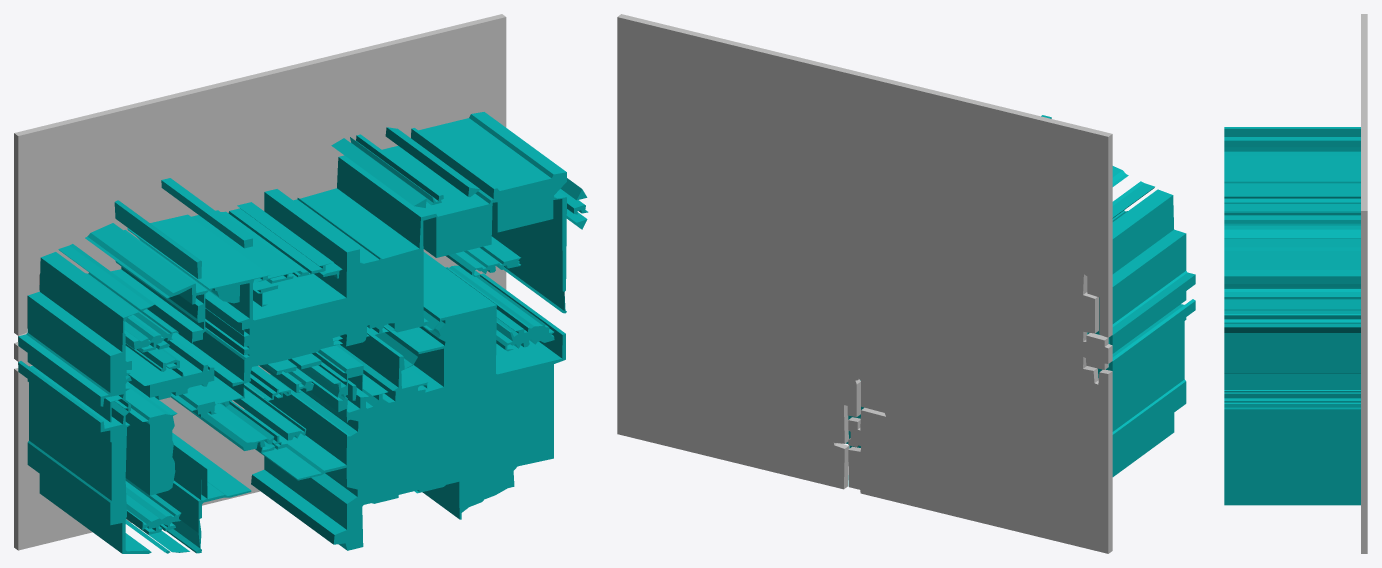
3 renders of one model, left to right at view 1: azimuth 30°, elevation 25°; view 2: azimuth 150°, elevation 25°; view 3: azimuth 270°, elevation 25°, orthographic. The views are drawn at different scales.
Visible parts, largest first — view 1: world; view 2: world; view 3: world.
Boxes of the visible parts, <box> form: world: <box>14,14,588,553</box>; world: <box>617,14,1195,553</box>; world: <box>1224,14,1367,553</box>.
Size of the model in its own units: 10.23 by 8.3 by 3.15.
